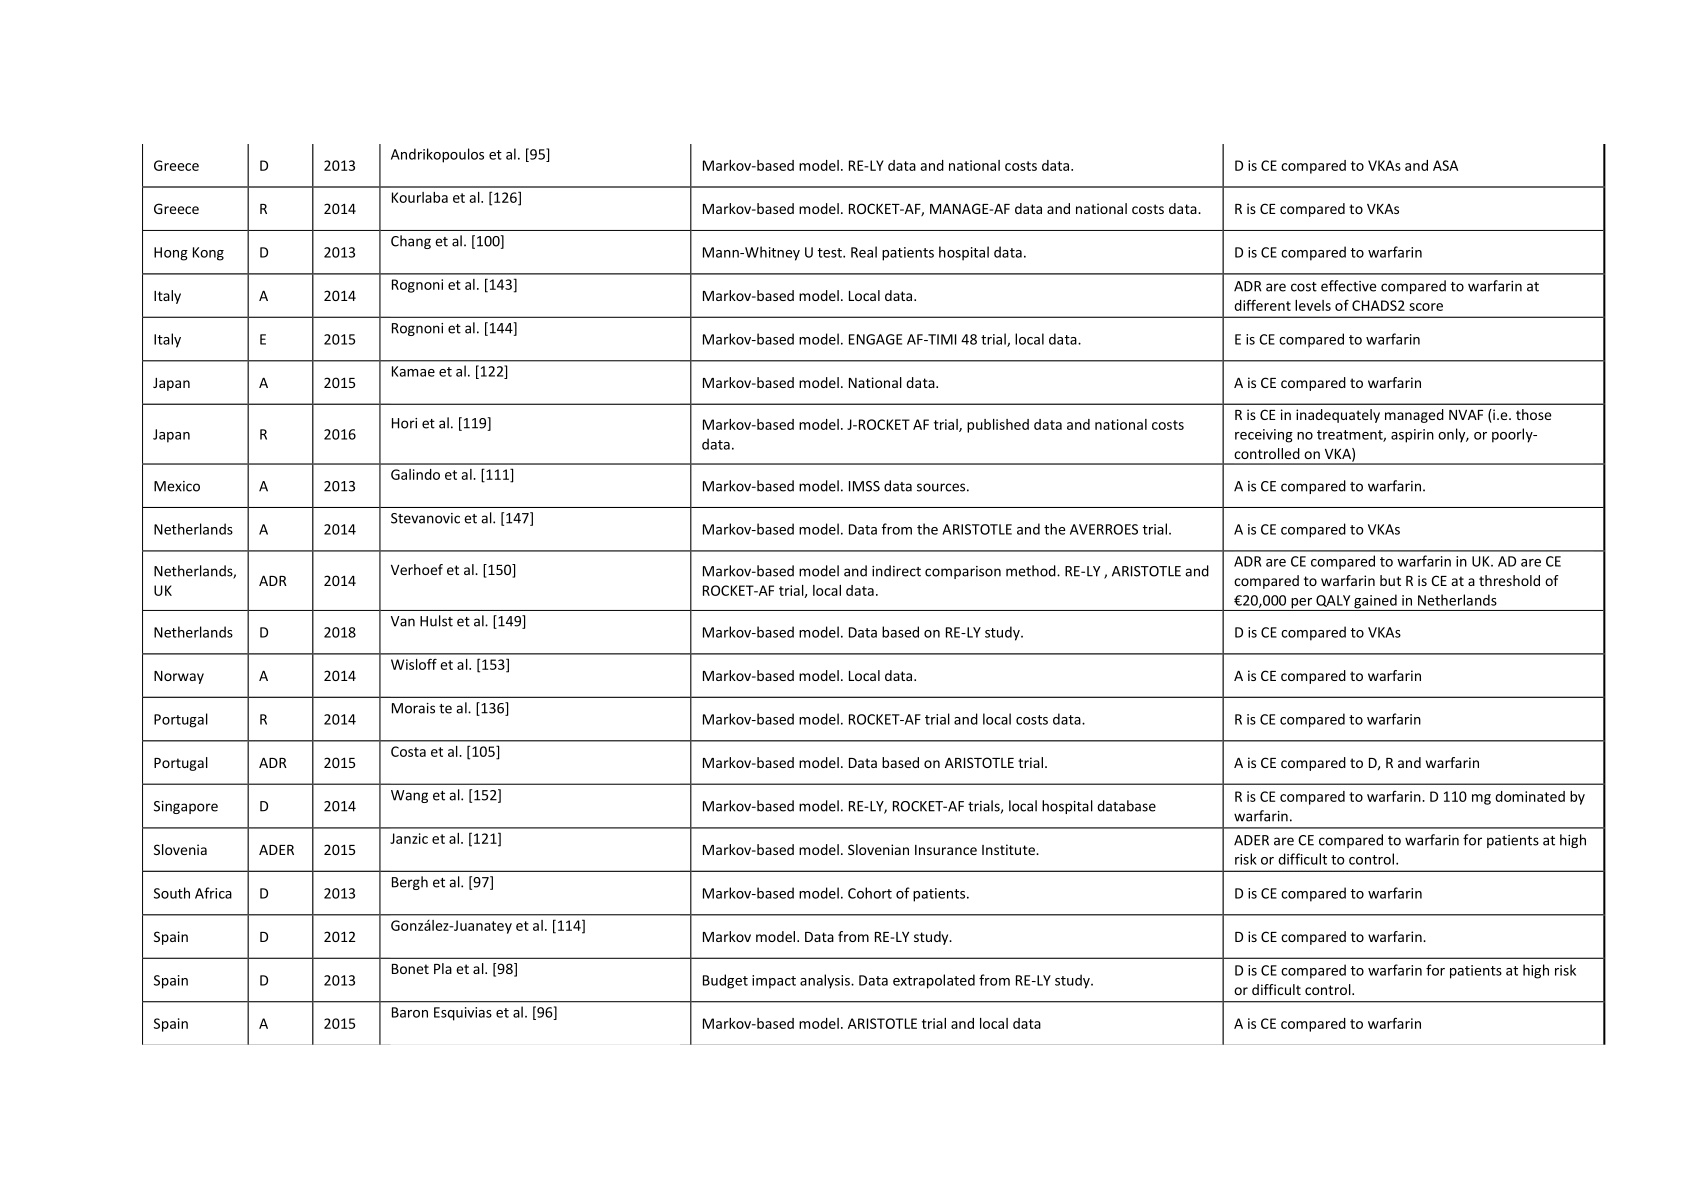partial_lined: (137, 135, 1614, 1058)
